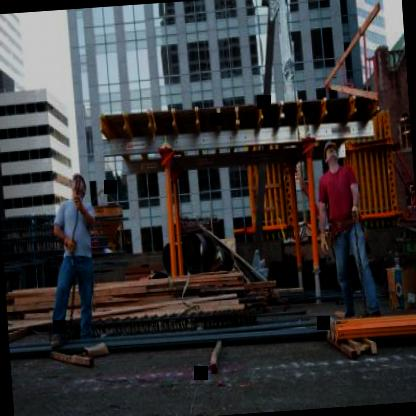helmet: (321, 136, 341, 168), (70, 168, 88, 200)
